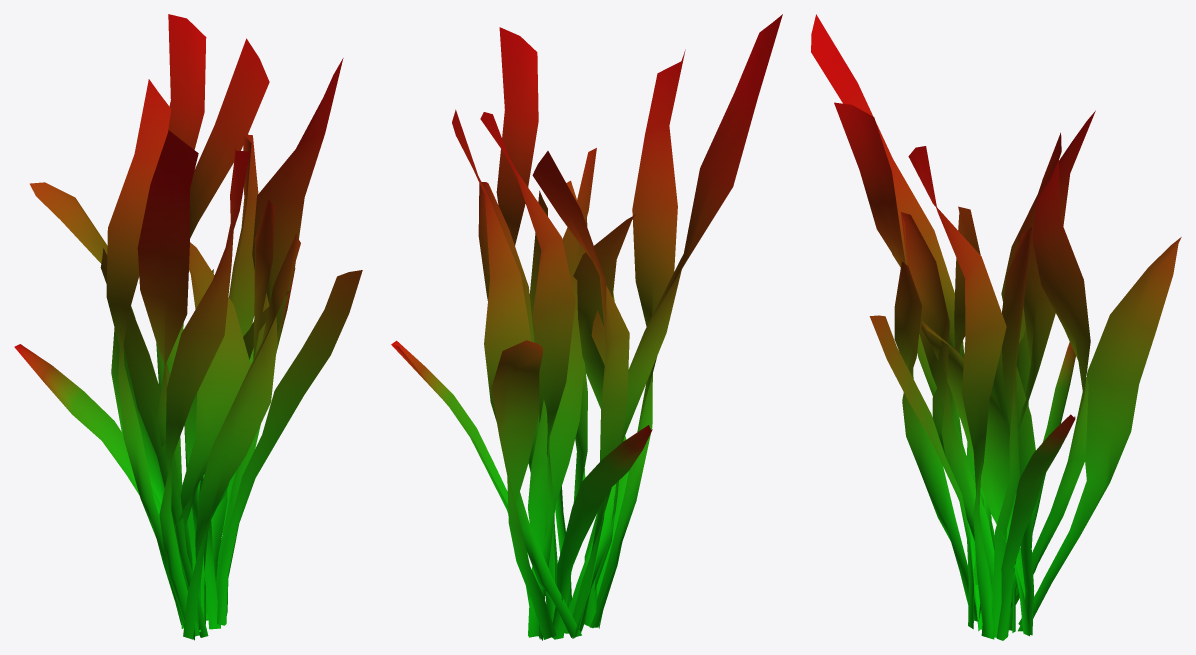
Rendered from FBX_Plant_3D_005.fbx.
3 views of the same model, side by side, from view 1: azimuth 30°, elevation 25°; view 2: azimuth 150°, elevation 25°; view 3: azimuth 270°, elevation 25° (orthographic). The views are drawn at different scales.
Parts seen in each view (by area): view 1: Var1_LOD1; view 2: Var1_LOD1; view 3: Var1_LOD1.
Boxes of the visible parts, x1,y1,x2,y2 form: Var1_LOD1: [14, 14, 362, 640]; Var1_LOD1: [391, 14, 782, 640]; Var1_LOD1: [811, 14, 1181, 640].
Size of the model in its own units: 56.85 by 119 by 71.21.
